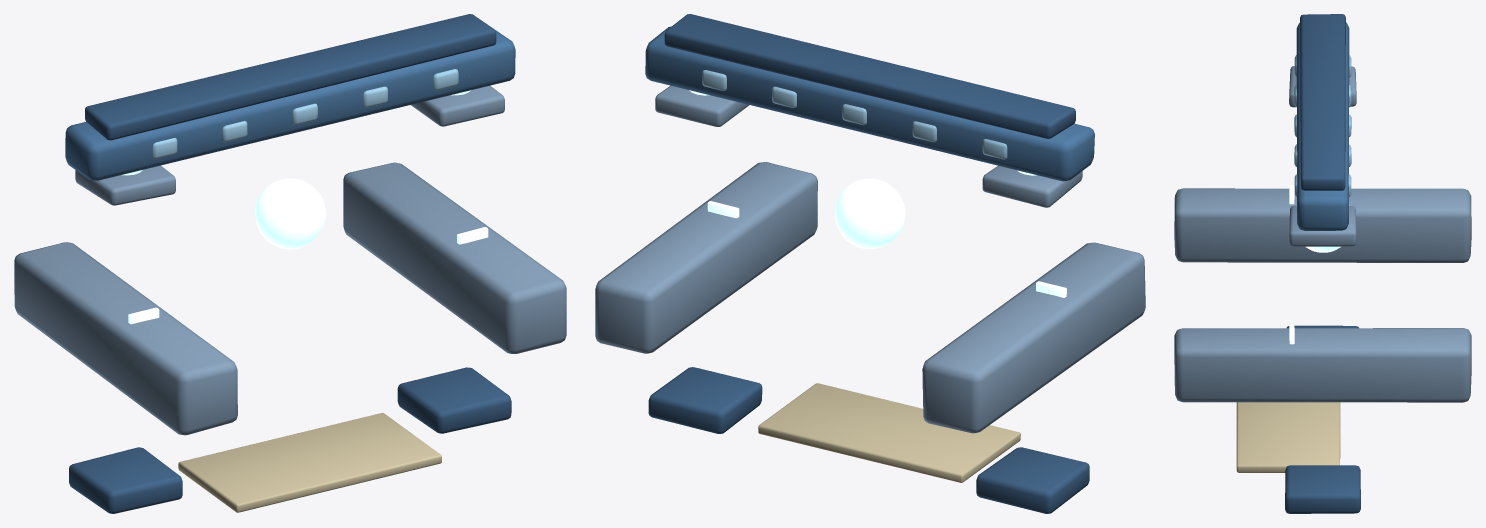
3 views of the same model, side by side, from view 1: azimuth 30°, elevation 25°; view 2: azimuth 150°, elevation 25°; view 3: azimuth 270°, elevation 25° (orthographic). The views are drawn at different scales.
Parts seen in each view (by area): view 1: gate_9f2d2ef6; view 2: gate_9f2d2ef6; view 3: gate_9f2d2ef6.
Part boxes in pixels (<box>): gate_9f2d2ef6: <box>14,14,566,513</box>; gate_9f2d2ef6: <box>595,14,1145,513</box>; gate_9f2d2ef6: <box>1174,14,1471,513</box>.
Bounding box in the file's own units: 4.99 × 4.29 × 3.45.
